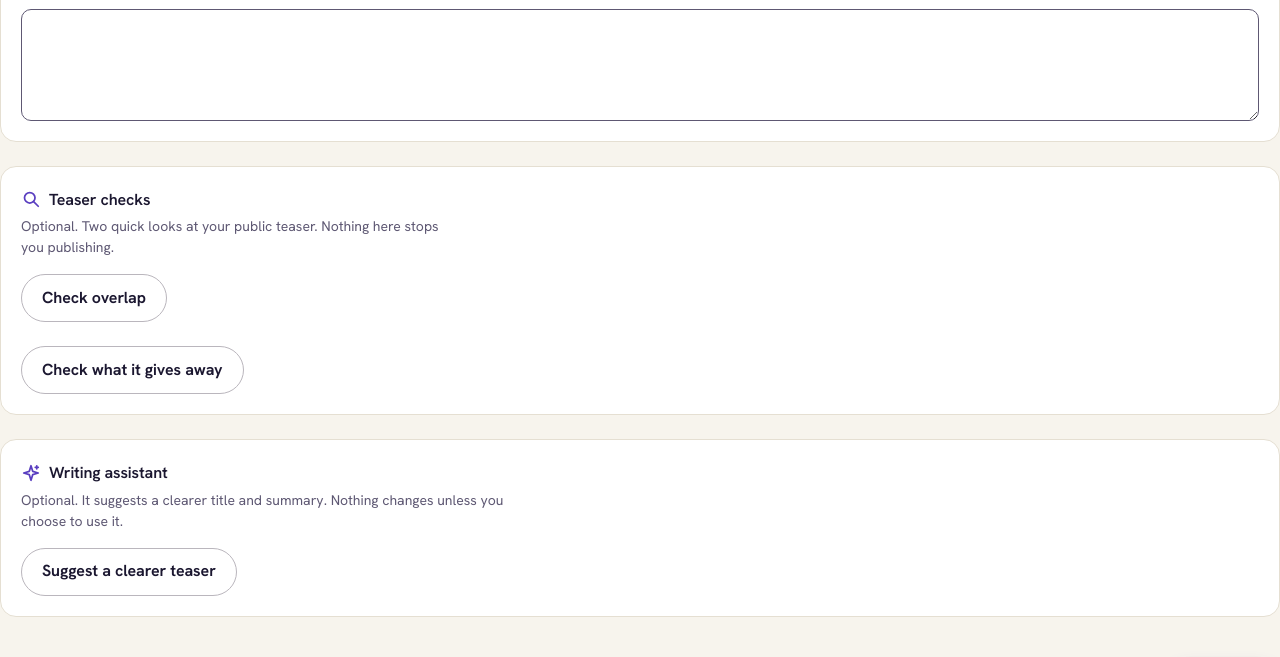
Scenario: check what it gives away › labels the demo fallback and does not claim the teaser was read by a model
(page scrolled)
Click the button "Check what it gives away". click: (132, 370)
box: [21,346,244,394]
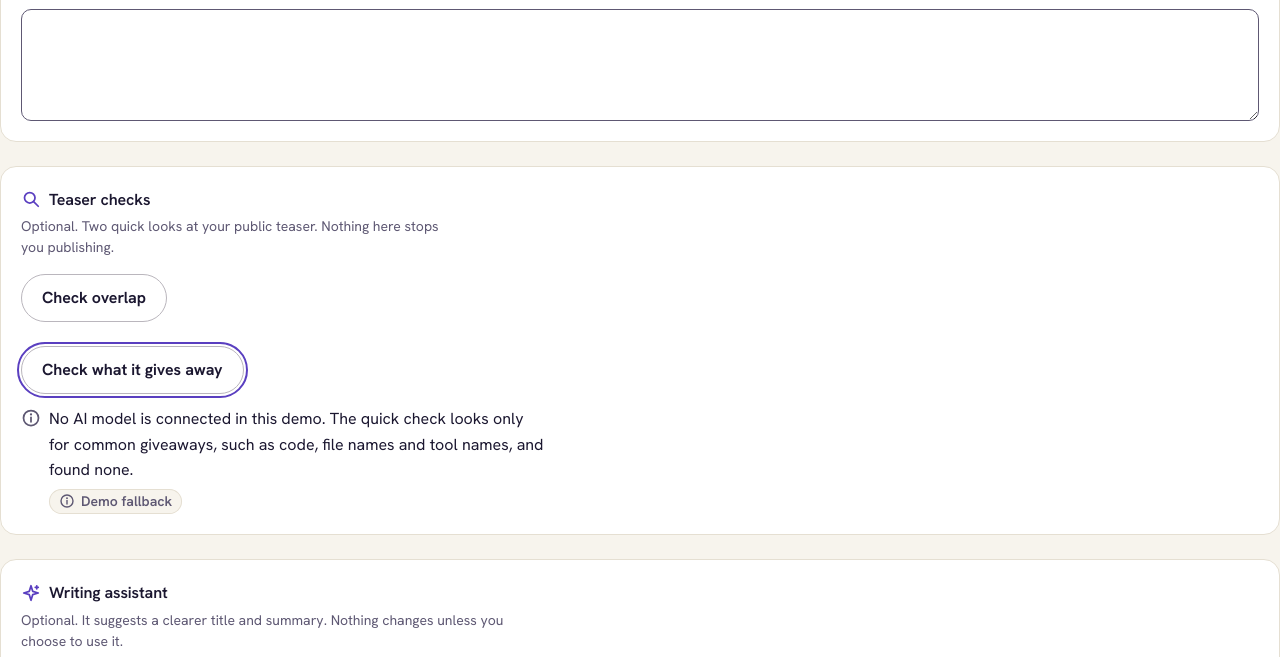
Check: the text "No AI model is connected in this demo. The quick check looks only for common giveaways, such as code, file names and tool names, and found none." is shown, box [49,408,544,480]
